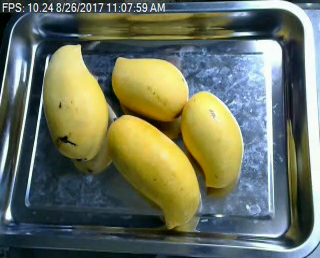Mango: (106, 107, 201, 230), (41, 39, 110, 163), (181, 91, 250, 194), (106, 55, 190, 121)
